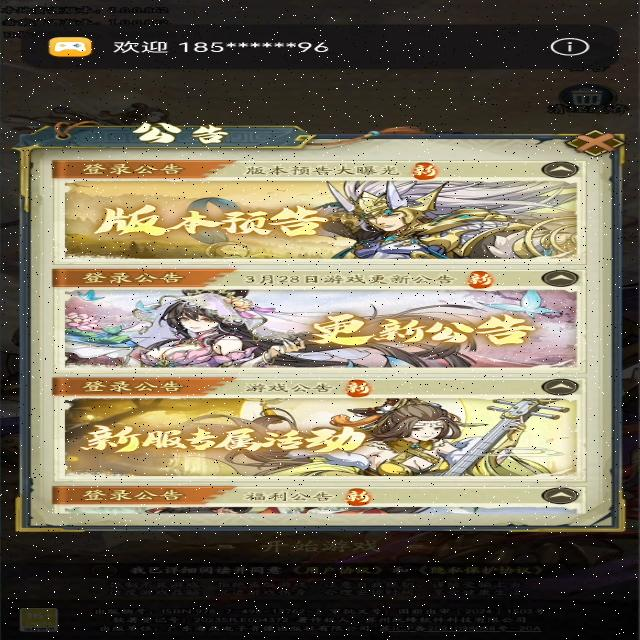operation-close: (567, 130, 627, 156)
